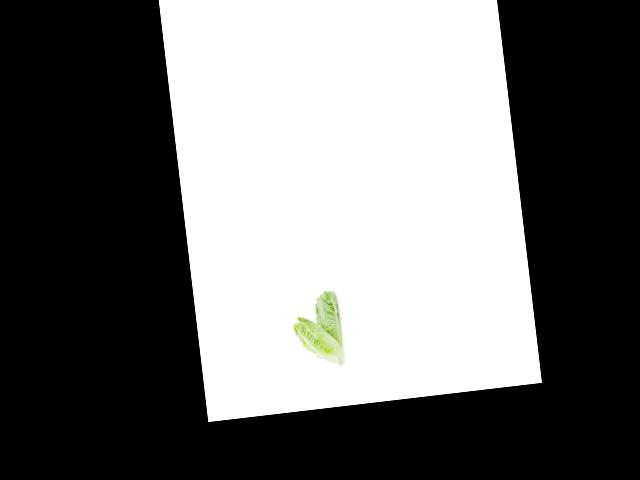lettuce: (310, 284, 348, 351)
